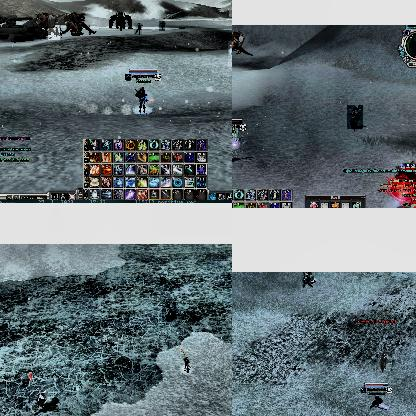caliana: (30, 388, 54, 414), (347, 105, 363, 129), (162, 302, 176, 322), (378, 351, 390, 371), (48, 28, 60, 40), (228, 40, 232, 67), (134, 23, 142, 35), (159, 21, 165, 31)
